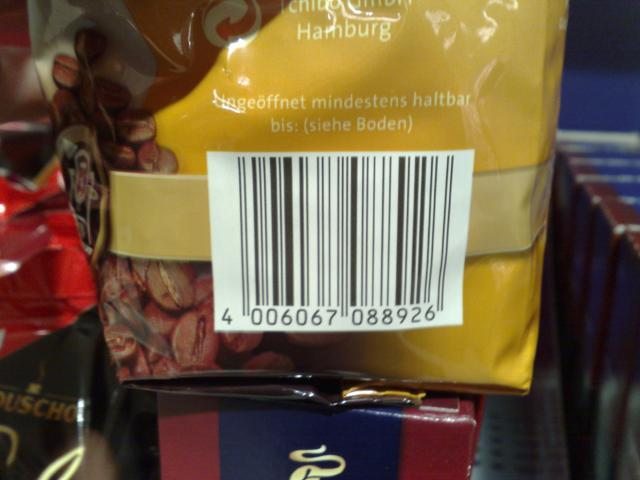Barkod: (232, 153, 452, 304)
